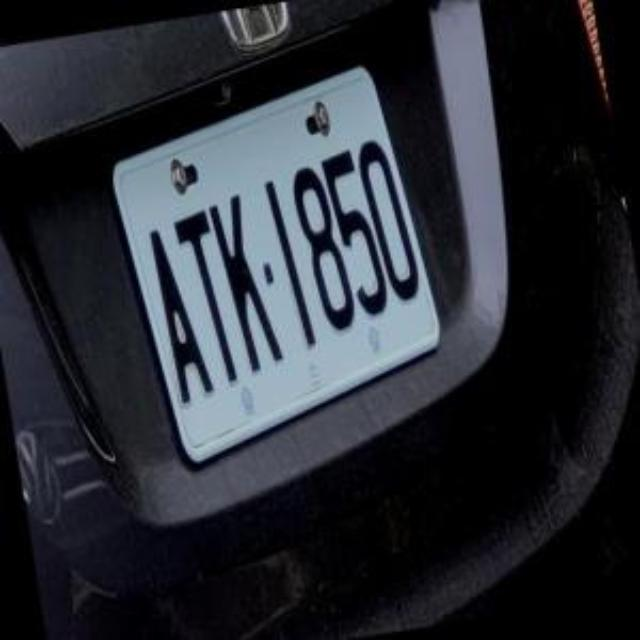License Plate: (106, 58, 448, 477)
